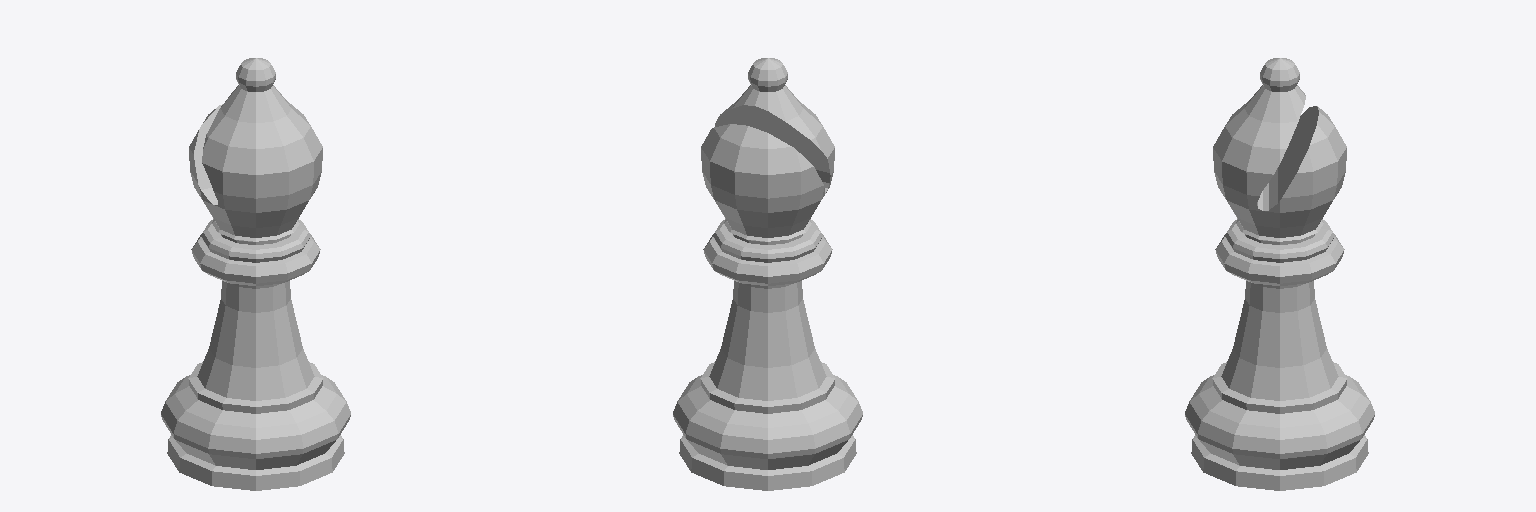
The model's file is GBishop.obj.
The picture shows the model from 3 angles: view 1: azimuth 30°, elevation 25°; view 2: azimuth 150°, elevation 25°; view 3: azimuth 270°, elevation 25°; orthographic projection.
Visible parts, largest first — view 1: Bishop; view 2: Bishop; view 3: Bishop.
Part boxes in pixels (left/top/right/bottom): Bishop: left=161, top=58, right=350, bottom=490; Bishop: left=673, top=58, right=862, bottom=490; Bishop: left=1185, top=58, right=1374, bottom=490.
Bounding box in the file's own units: 0.179 × 0.4095 × 0.179.